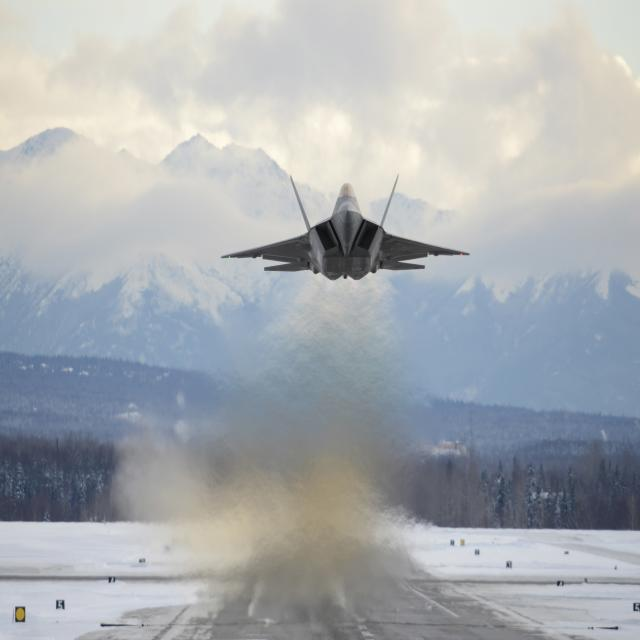F22: (198, 144, 476, 317)
